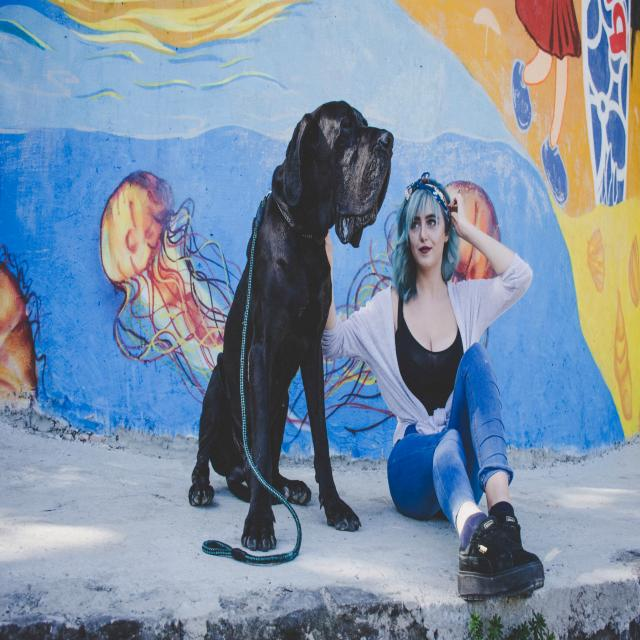adult: (324, 178, 545, 600)
